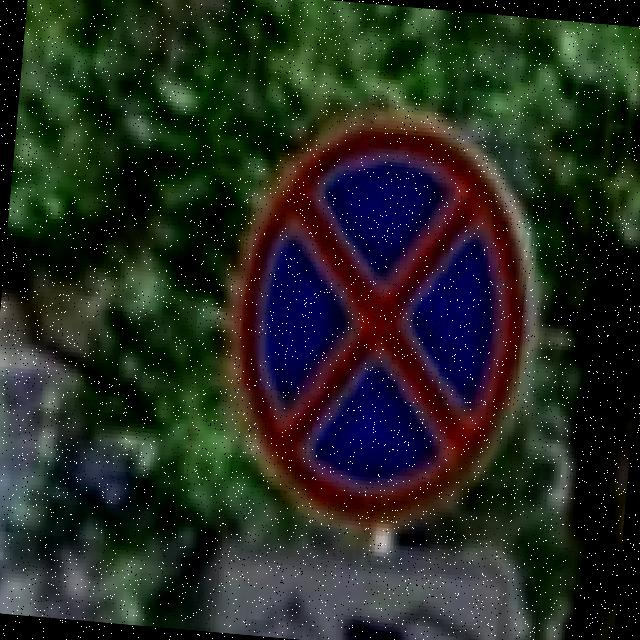Zakaz zatrzymywania sie: (222, 101, 550, 539)
